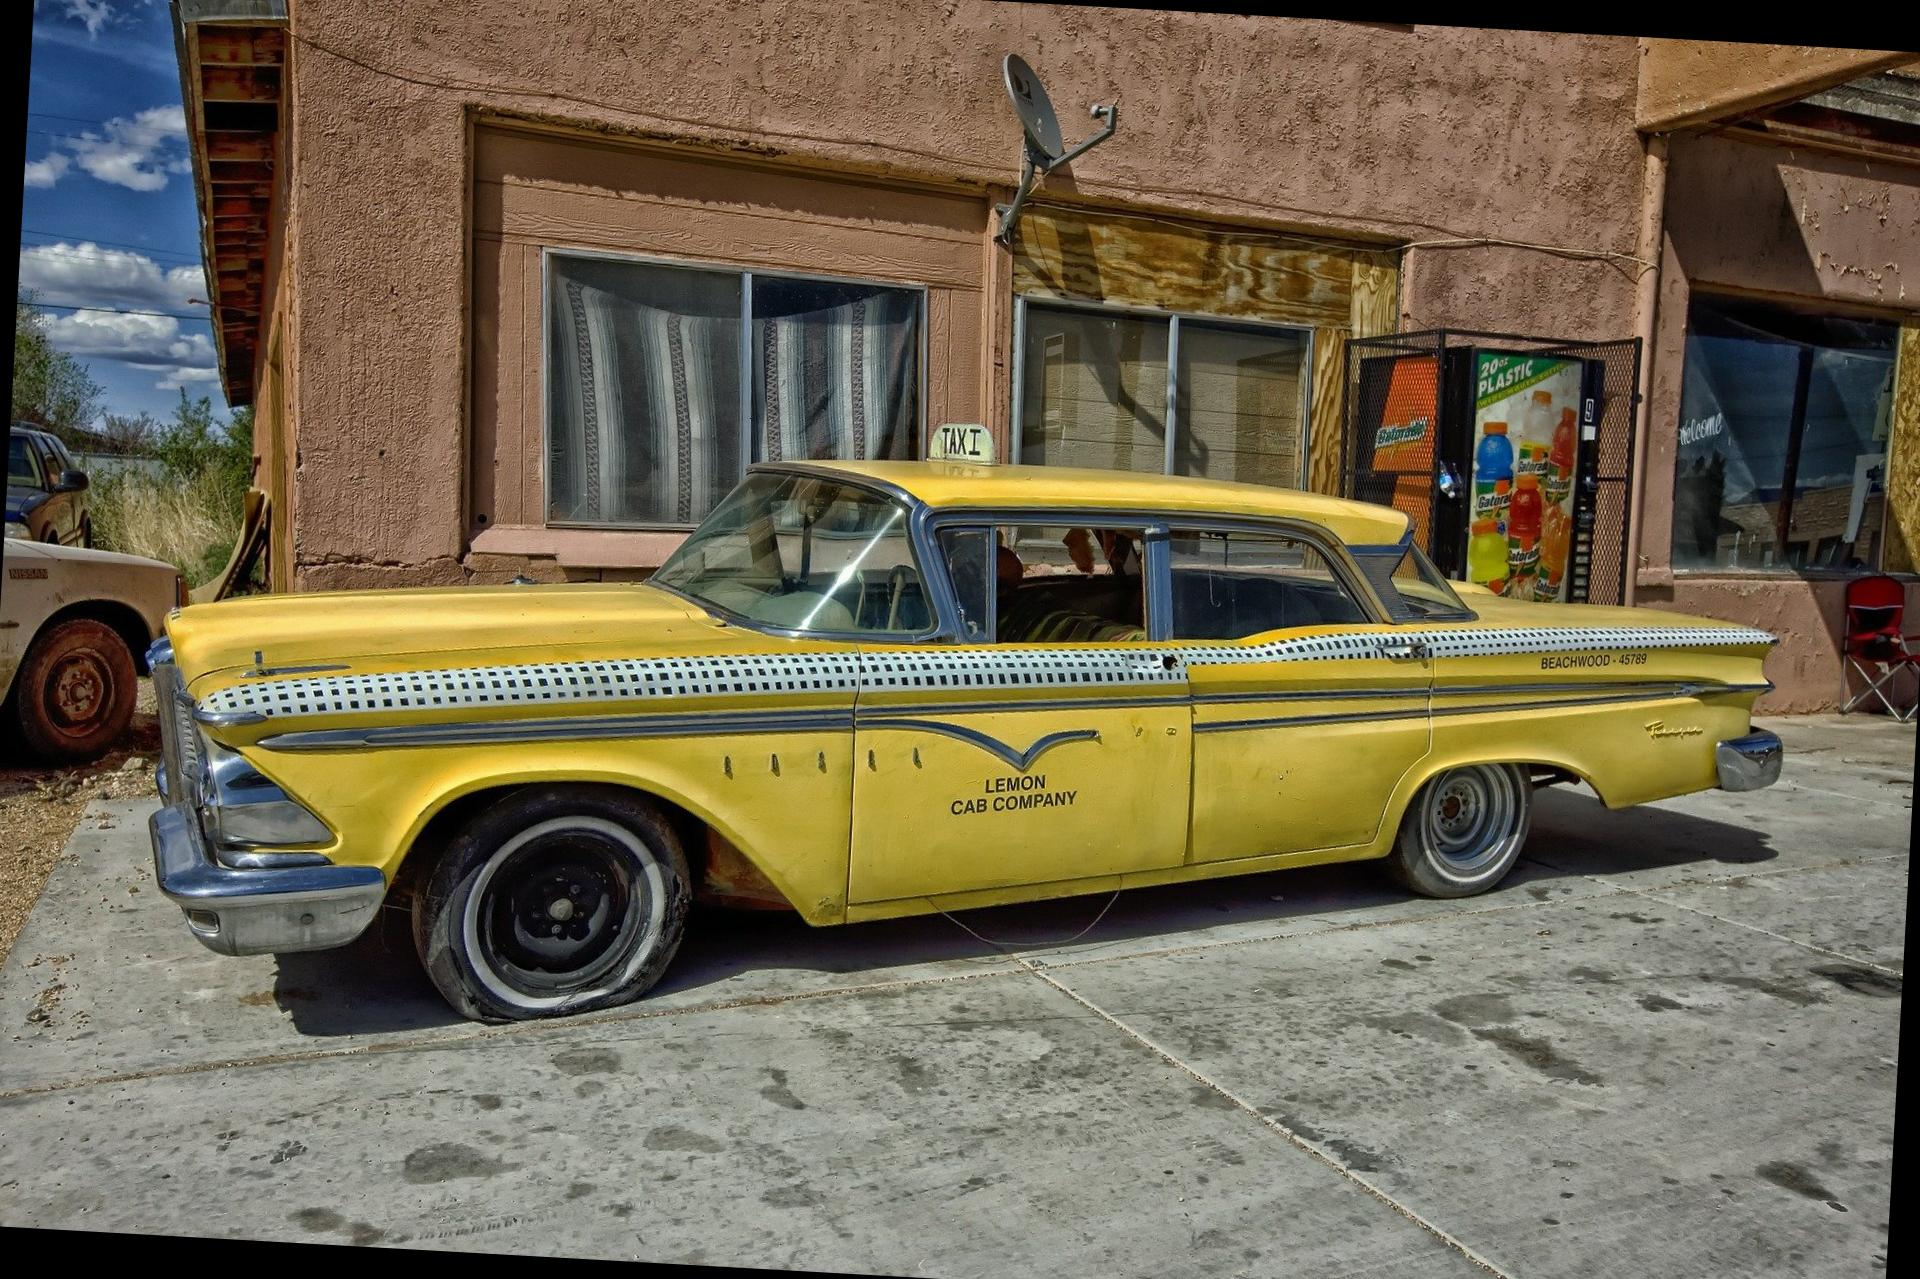taxi: (123, 491, 1870, 891)
